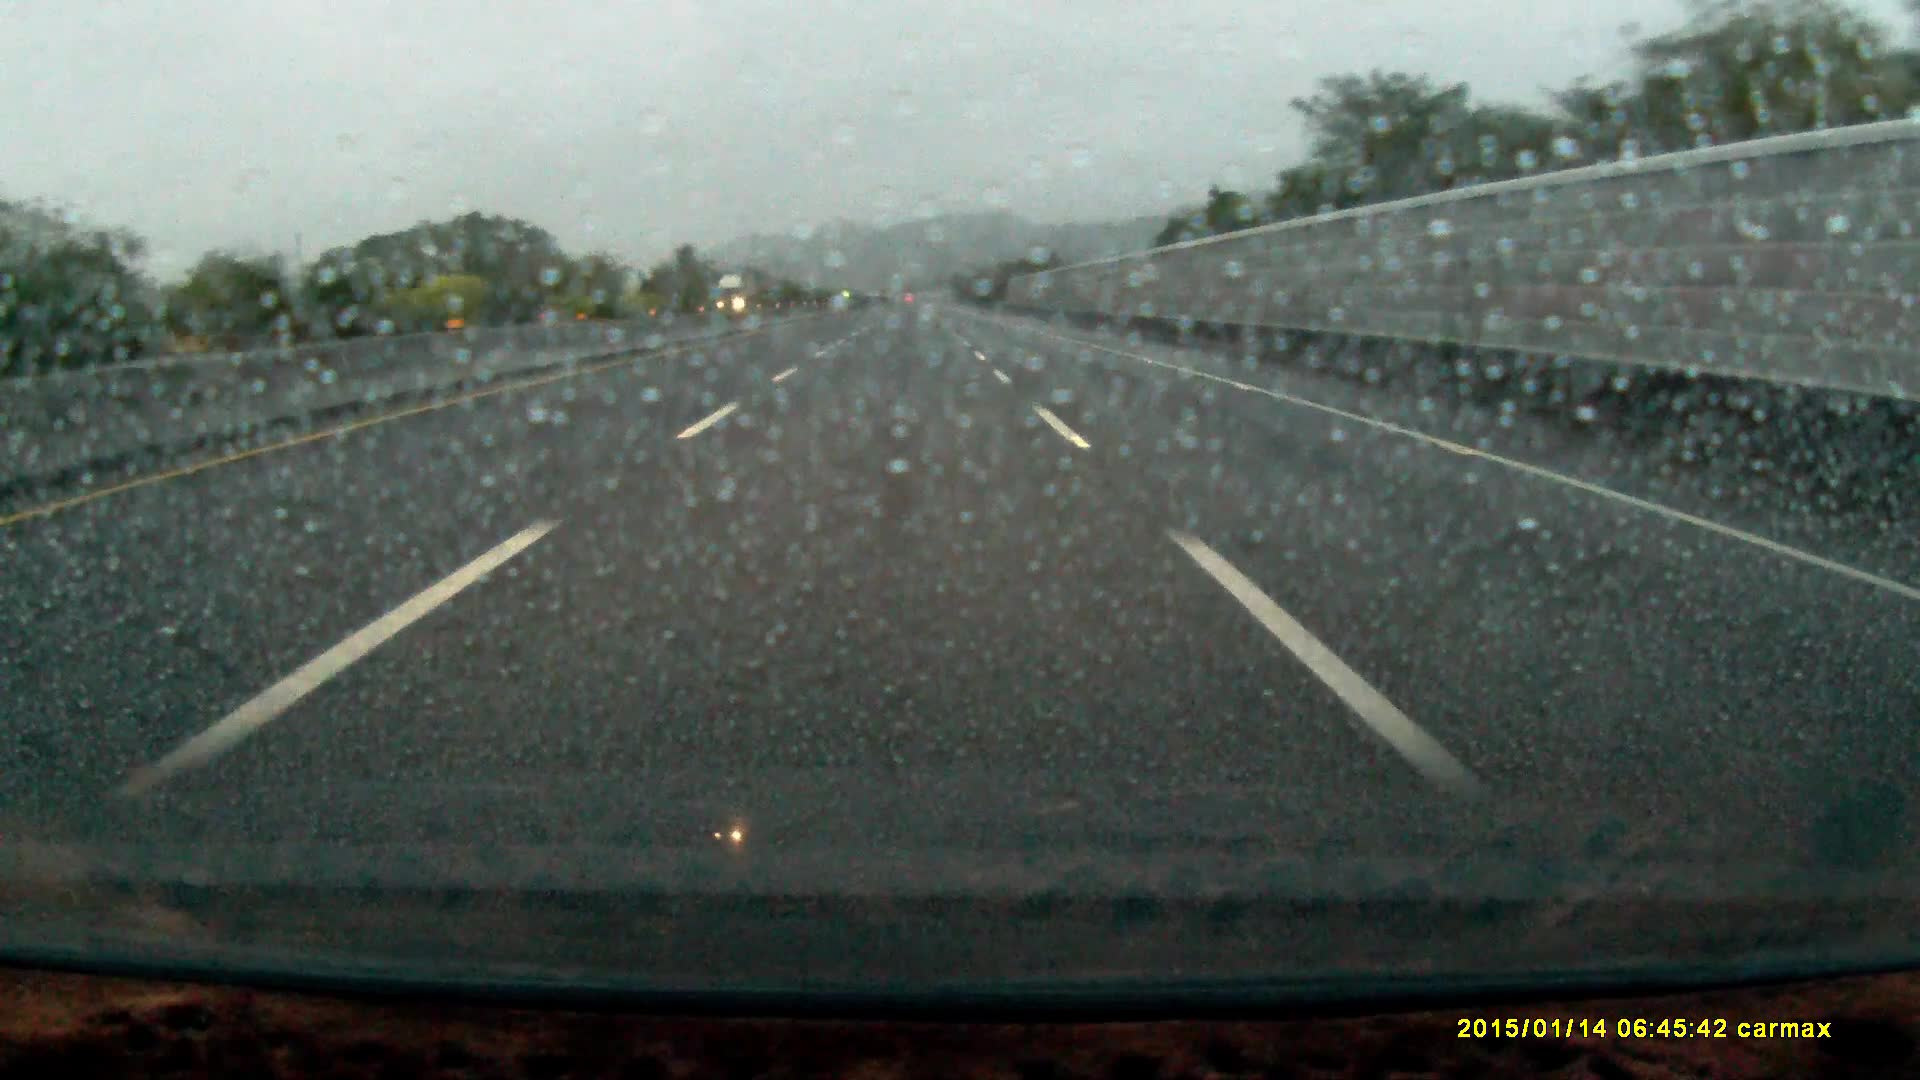vehicle: (713, 276, 756, 316)
